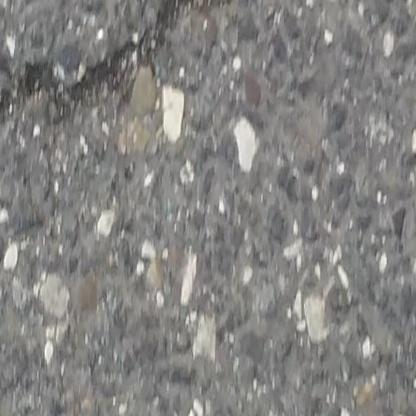Cracks: (0, 0, 243, 145)
